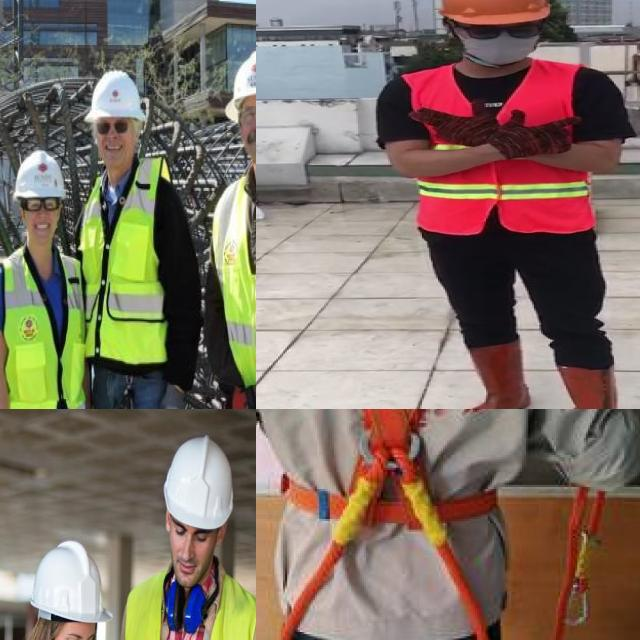Harness: (257, 409, 519, 640)
boots: (453, 342, 530, 409), (561, 365, 639, 409)
face_nomask: (158, 518, 210, 593), (92, 113, 134, 175), (21, 195, 59, 241), (231, 93, 256, 158), (29, 624, 95, 640)
glasses: (449, 19, 549, 43), (92, 113, 132, 137), (22, 192, 59, 214), (233, 100, 256, 127)
hand_glove: (500, 105, 577, 158), (409, 103, 496, 146), (222, 376, 256, 409)
head_helmet: (163, 433, 236, 532), (28, 539, 113, 623), (79, 72, 152, 120), (8, 148, 71, 200), (432, 0, 557, 26), (218, 39, 256, 115)
person: (343, 0, 640, 409), (78, 69, 200, 409), (90, 429, 256, 640), (0, 148, 90, 409), (203, 36, 256, 409), (0, 538, 130, 640)
vest: (395, 61, 598, 236), (74, 166, 195, 367), (0, 244, 92, 409), (208, 168, 256, 409)
